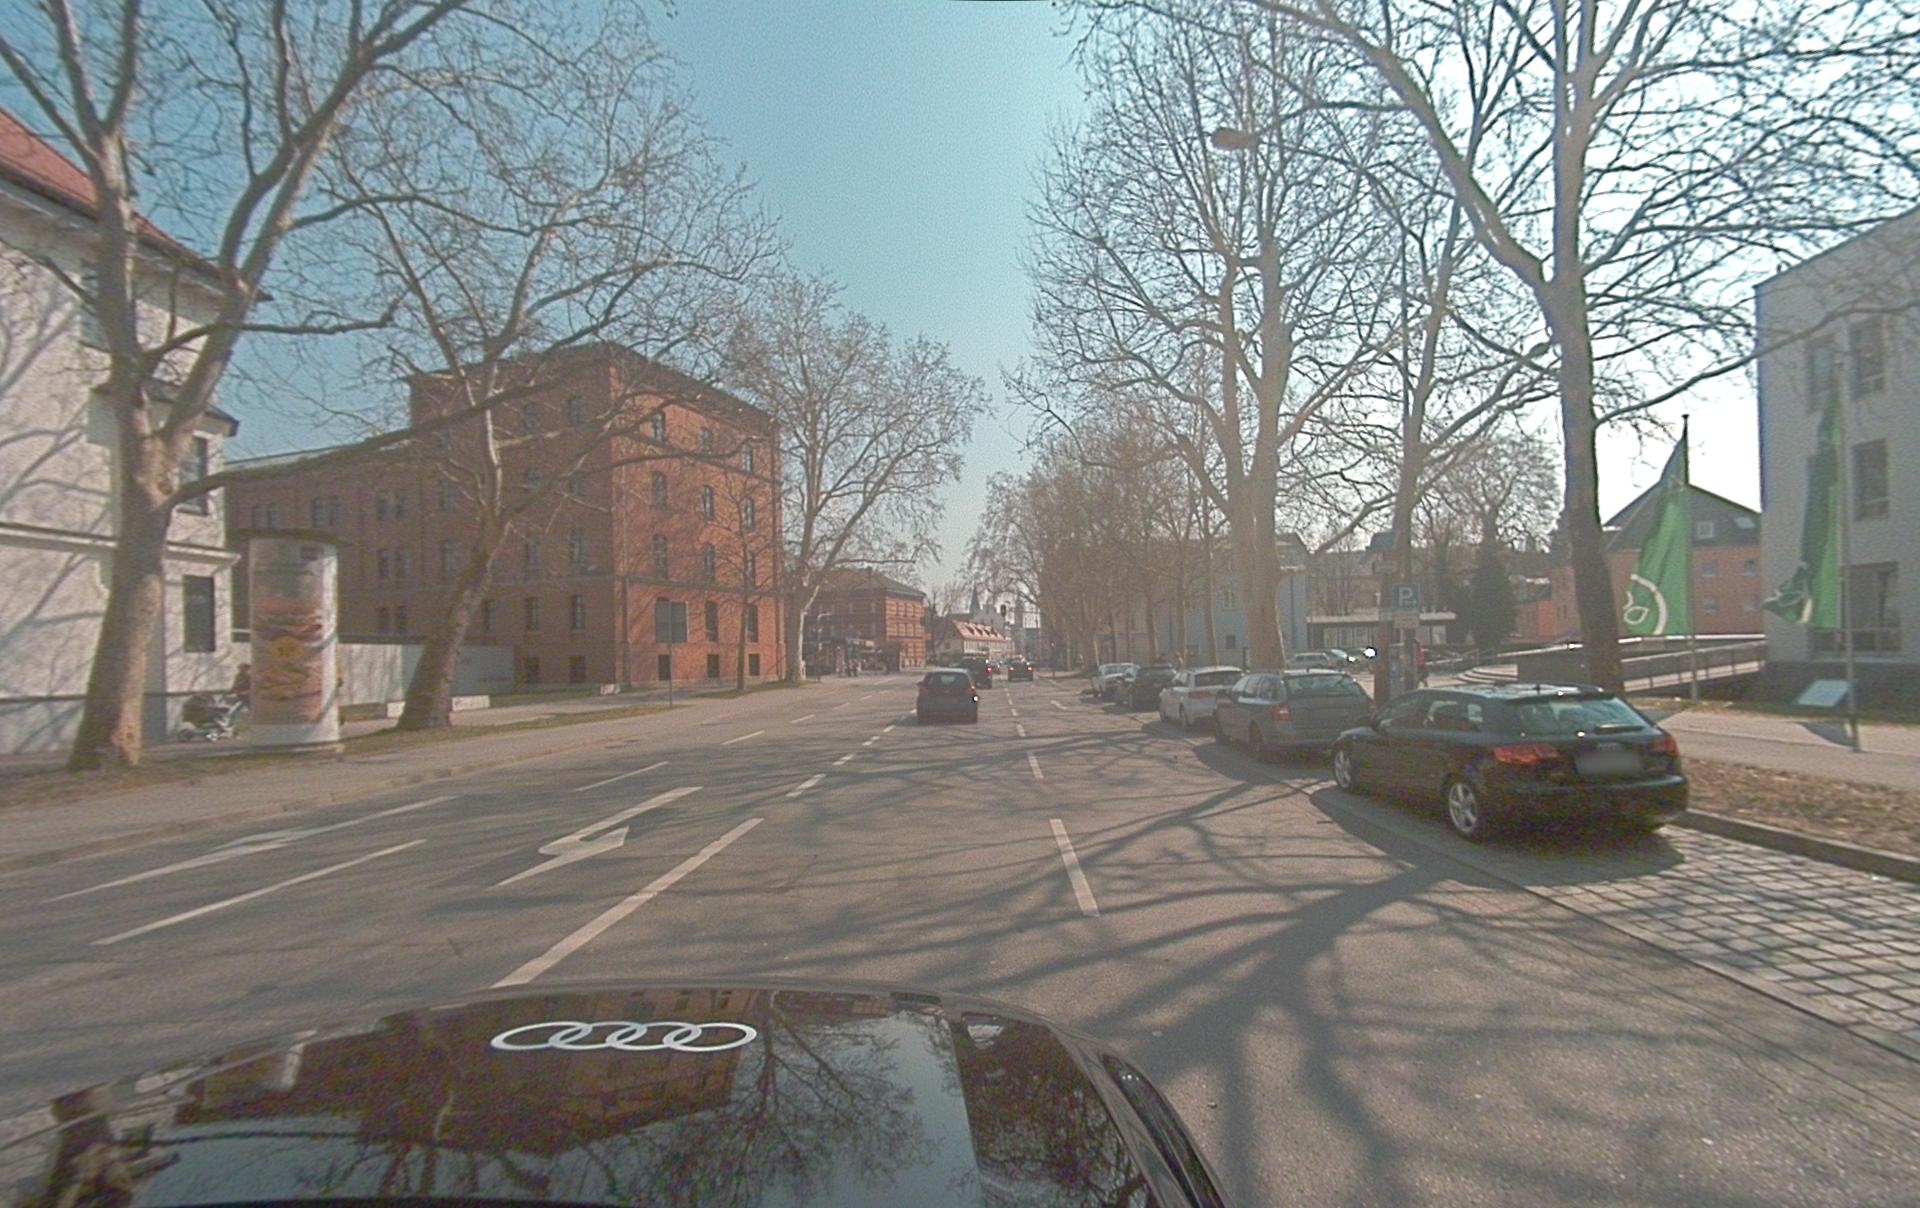car: (1, 981, 1231, 1208), (1331, 681, 1689, 842), (1213, 668, 1375, 763), (1159, 665, 1244, 732), (915, 668, 979, 724), (1116, 665, 1180, 710), (1091, 662, 1138, 700), (953, 654, 992, 689), (1006, 654, 1034, 682)
